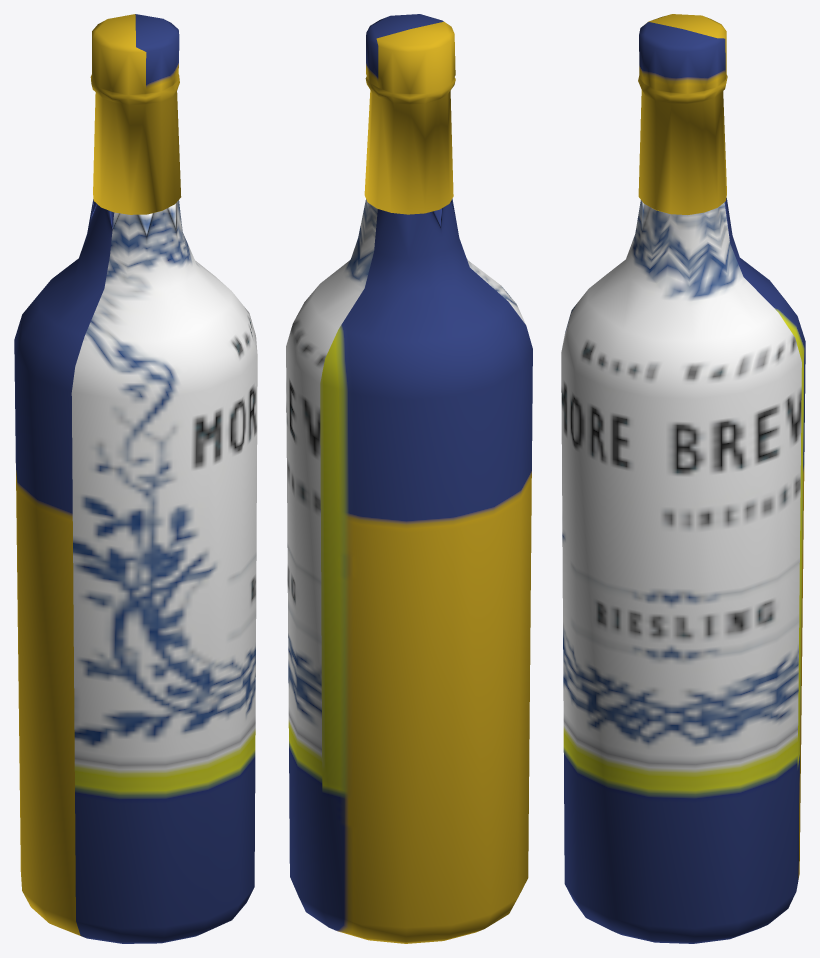
The model's file is WineBottle1_Ground.FBX.
3 views of the same model, side by side, from view 1: azimuth 30°, elevation 25°; view 2: azimuth 150°, elevation 25°; view 3: azimuth 270°, elevation 25° (orthographic).
Parts seen in each view (by area): view 1: WineBottle; view 2: WineBottle; view 3: WineBottle.
Boxes of the visible parts, x1,y1,x2,y2 form: WineBottle: (14,14,257,943); WineBottle: (286,14,532,943); WineBottle: (561,14,805,943).
Bounding box in the file's own units: 0.1654 × 0.6514 × 0.1654.
